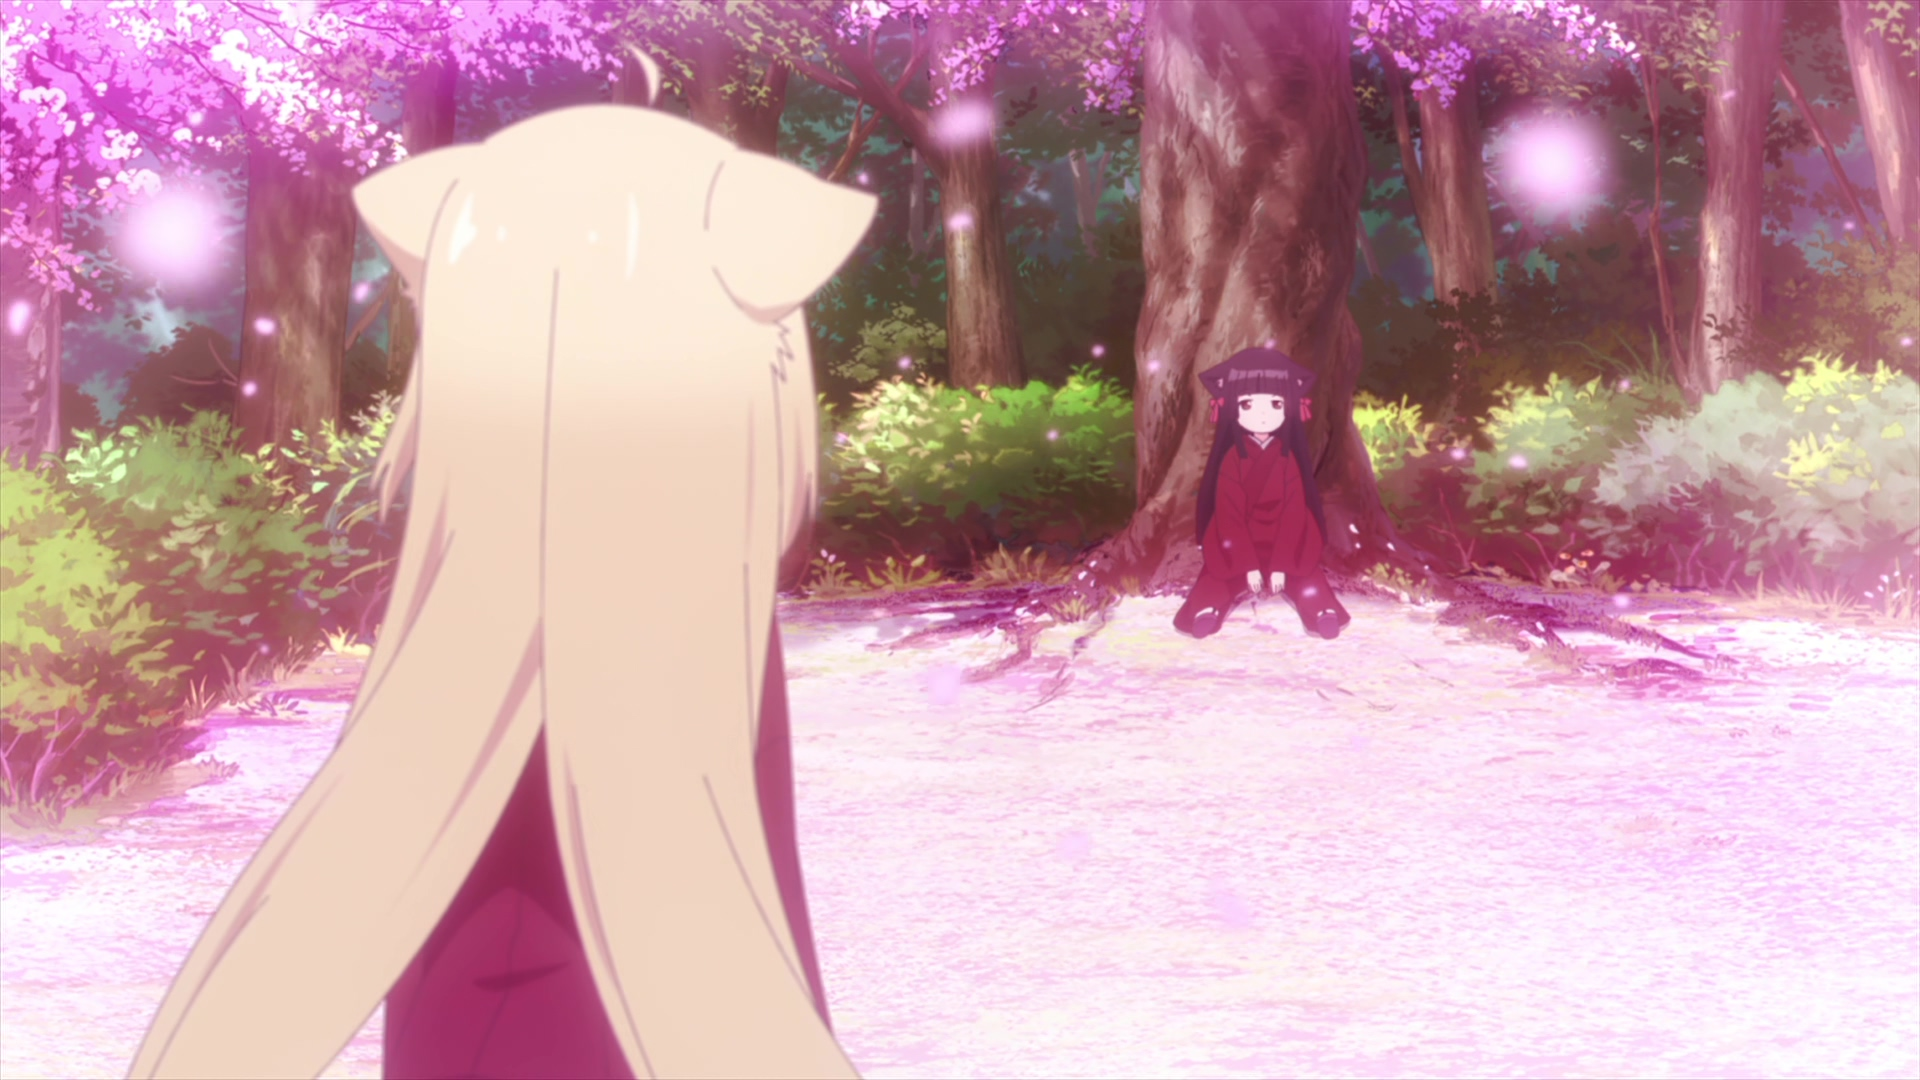柚: (121, 40, 877, 1080)
樱: (1171, 349, 1352, 638)
